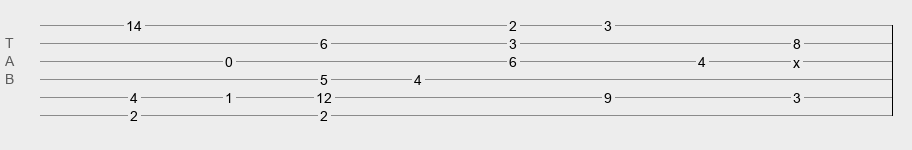0: (225, 54, 233, 64)
1: (225, 90, 233, 100)
12: (316, 90, 332, 100)
14: (126, 18, 142, 28)
2: (130, 108, 138, 118), (320, 108, 328, 118), (509, 18, 517, 28)
3: (509, 36, 517, 46), (604, 18, 612, 28), (793, 90, 801, 100)
4: (130, 90, 138, 100), (414, 72, 422, 82), (698, 54, 706, 64)
5: (320, 72, 328, 82)
6: (320, 36, 328, 46), (509, 54, 517, 64)
8: (793, 36, 801, 46)
9: (604, 90, 612, 100)
x: (793, 55, 800, 63)
